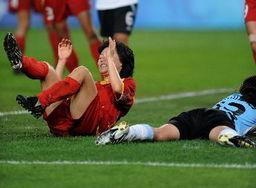Fall-Detected: (100, 71, 254, 150)
